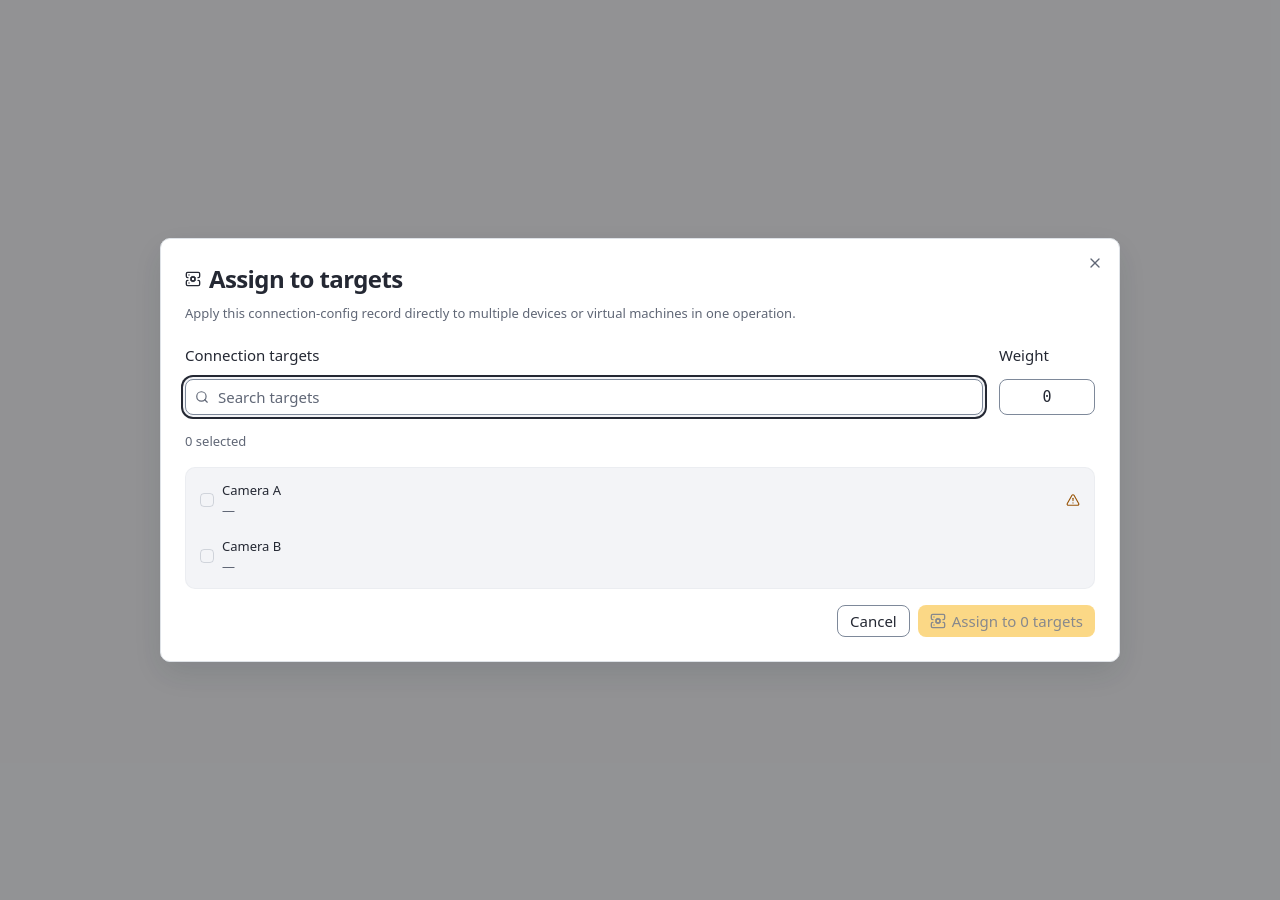
Test case: AssignToTargetsDialog › submits selected targets and renders every per-target outcome
Click the button "Camera A —" at (252, 490), box [192, 474, 1088, 526]
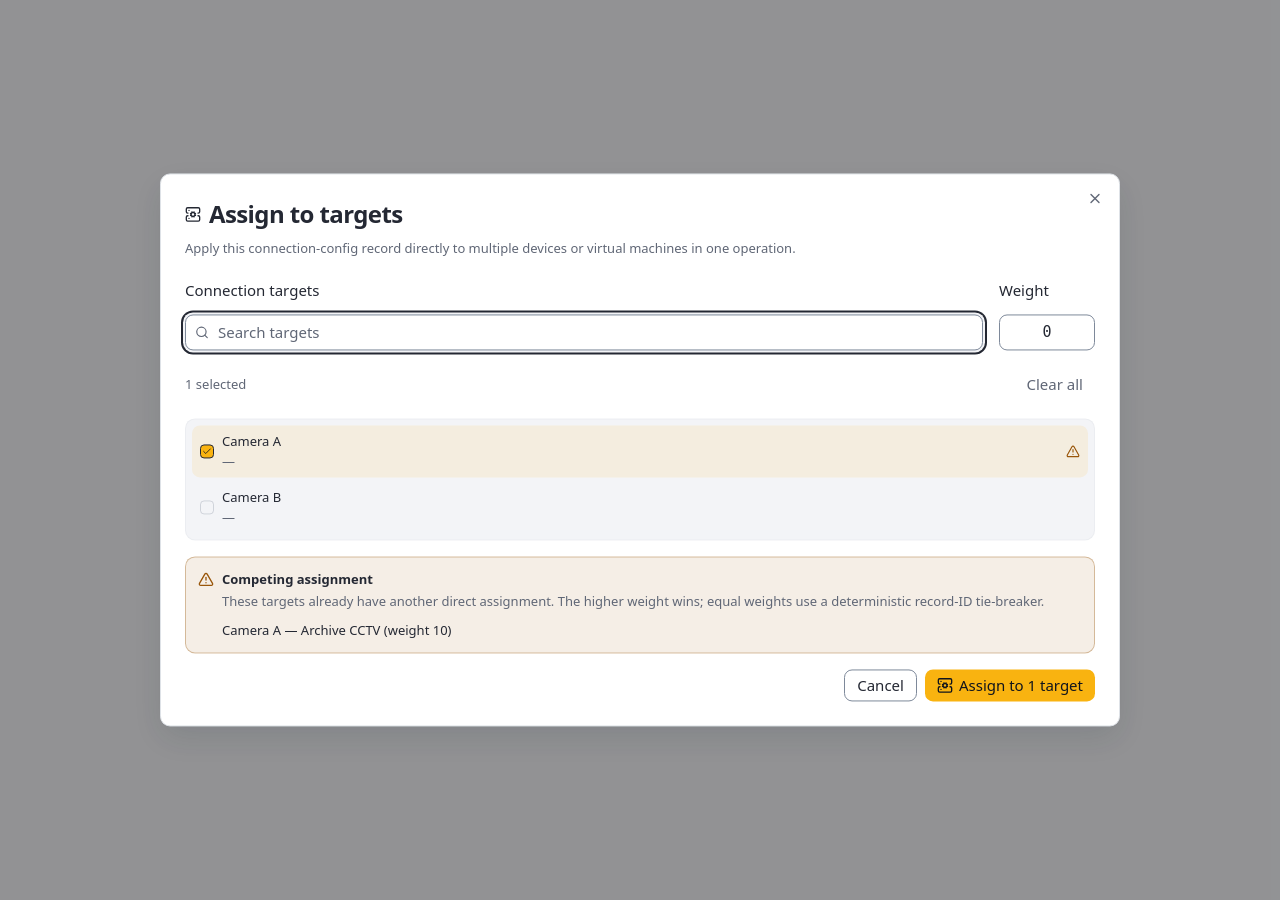
Click the button "Camera B —" at (252, 497), box [192, 481, 1088, 533]
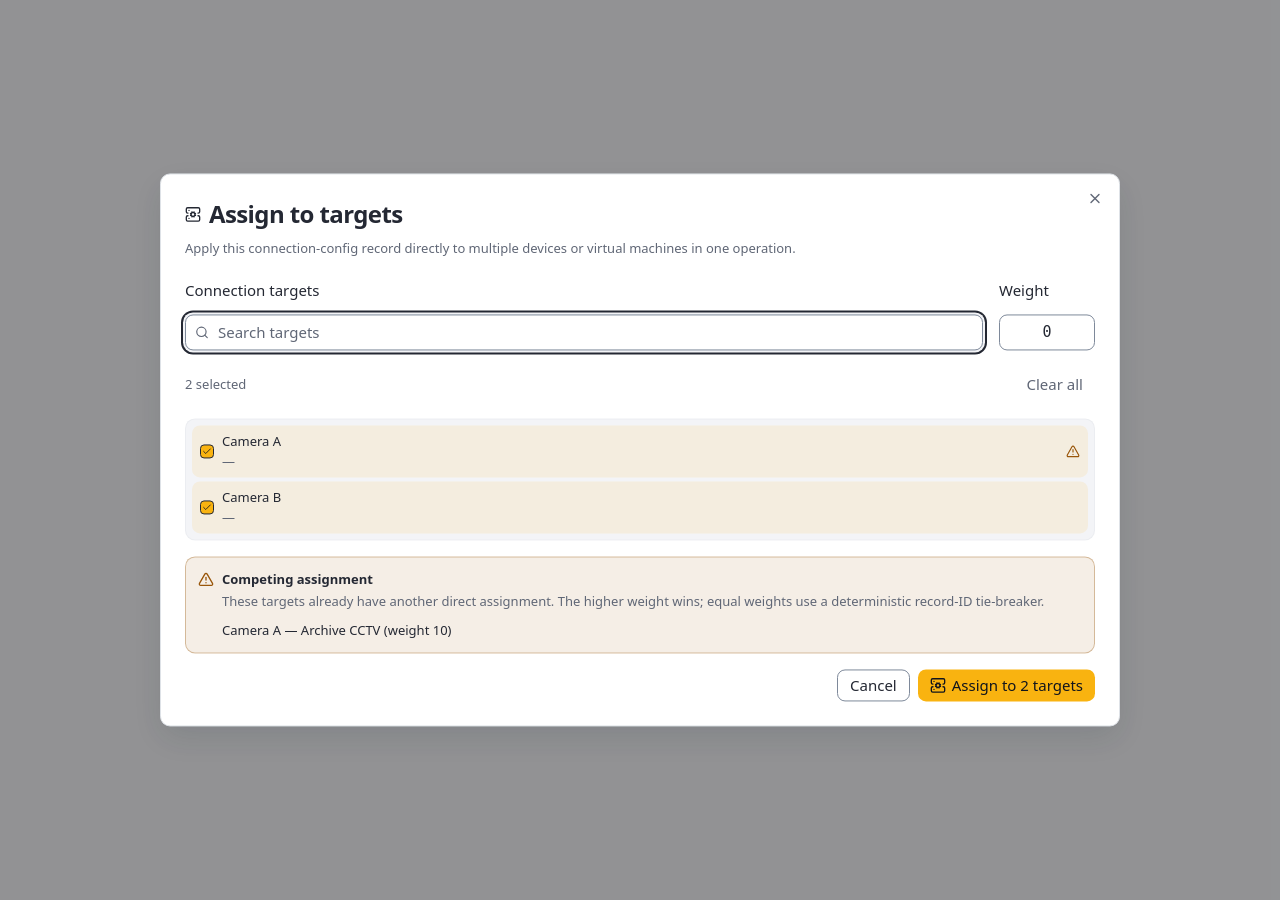
Click the button "Assign to 2 targets" at (1006, 686), box [918, 670, 1095, 702]
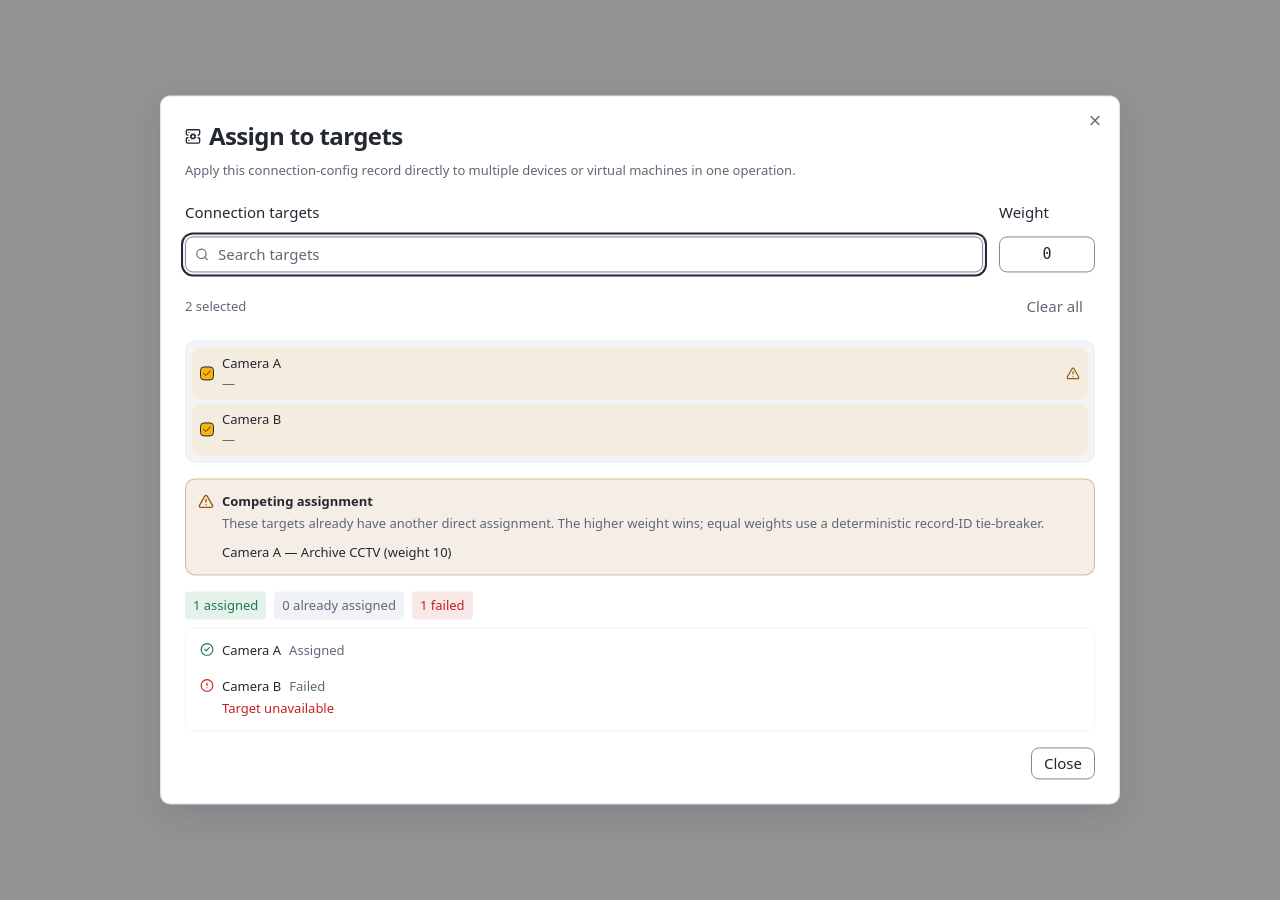
Check: the text "Target unavailable" is shown, box [222, 700, 334, 718]
Check: the text "Assigned" is shown, box [289, 642, 345, 660]
Check: the text "Failed" is shown, box [289, 678, 325, 696]
